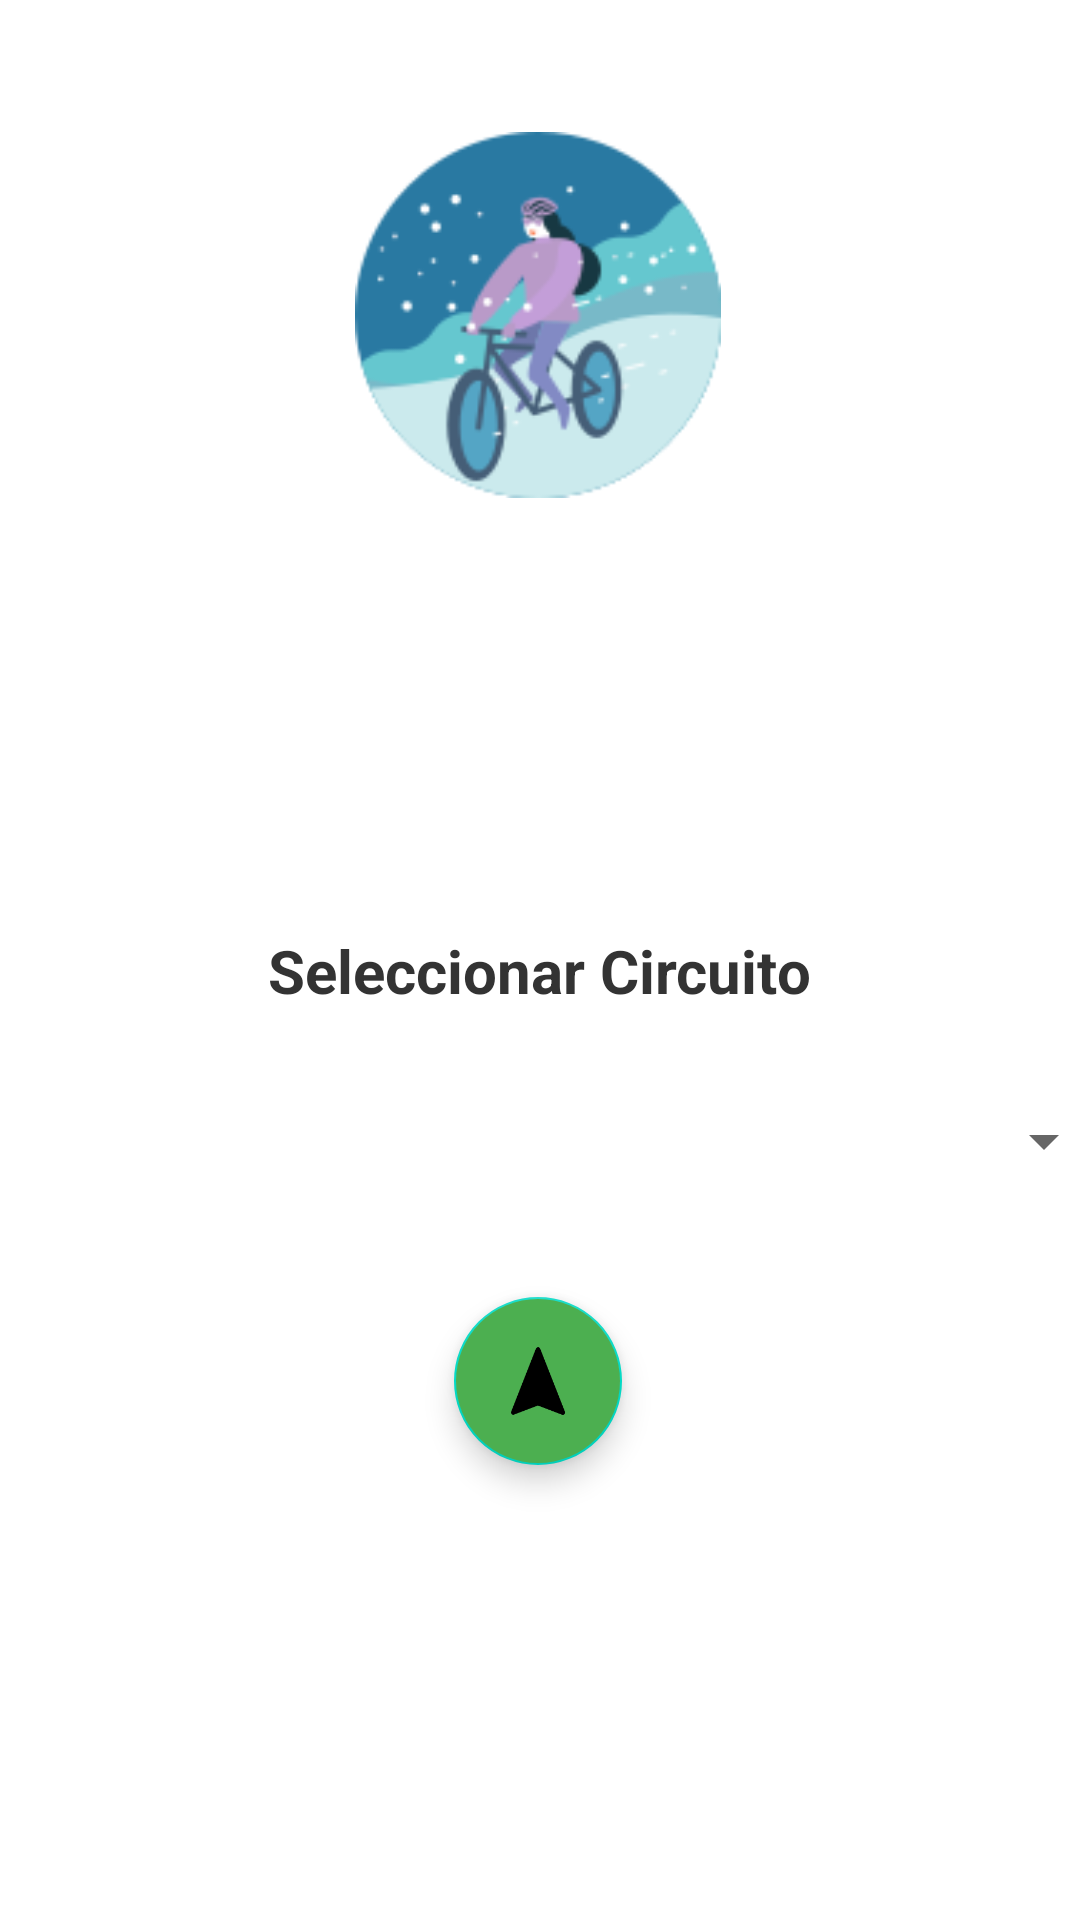

Icon bounding boxes for this 1080px x 1920px phone screenshot, format (x1, y1, x2, y2):
navigation pointer: (454, 1297, 622, 1465)
